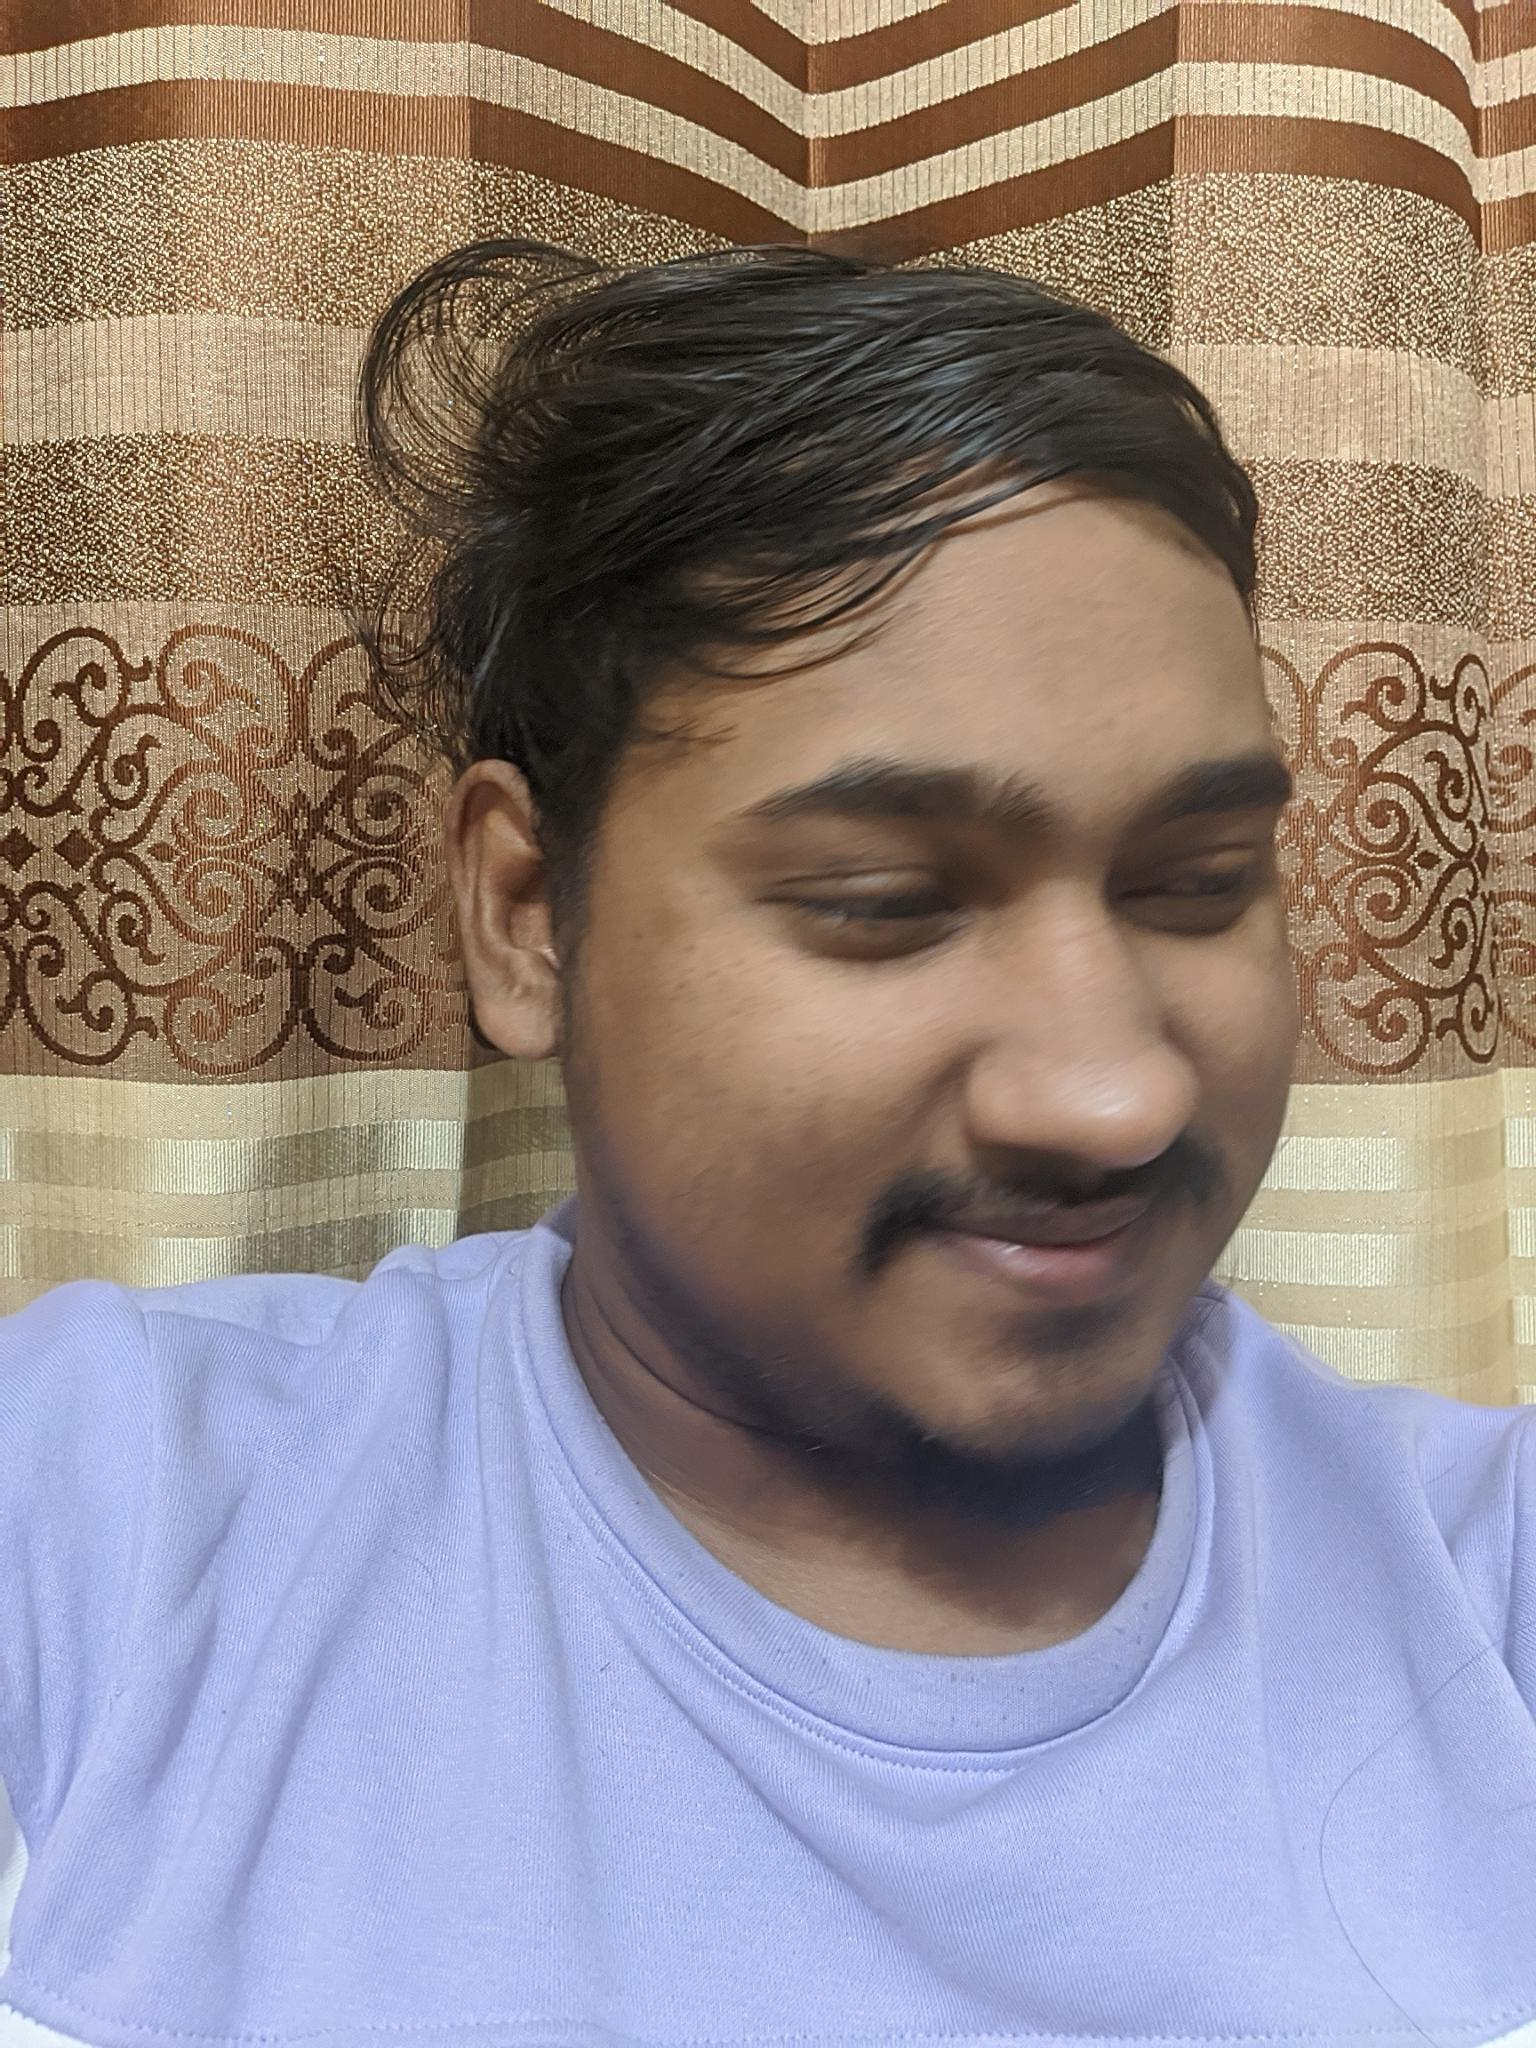Happy: (694, 632, 1344, 1458)
